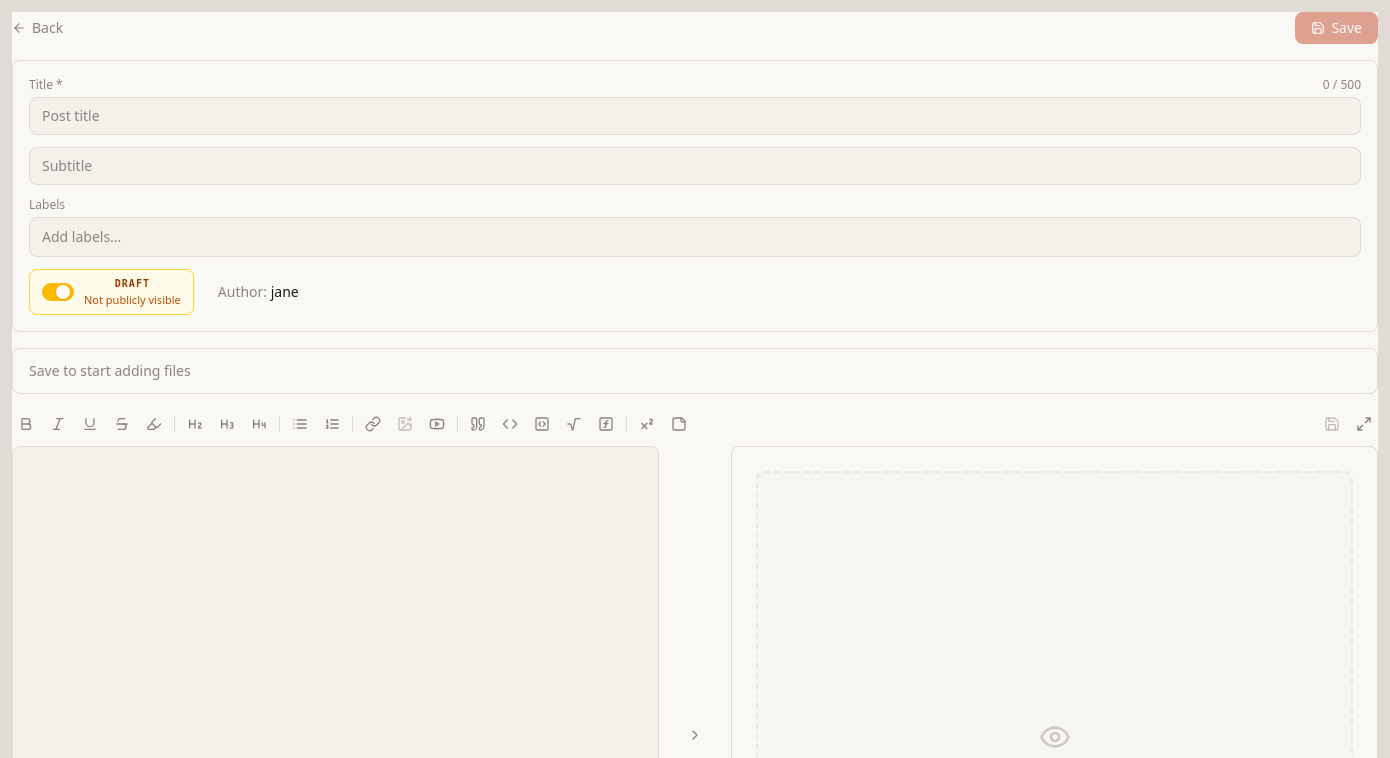
Test: EditorPage › shows 422 validation error with string detail
The width and height of the screenshot is (1390, 758).
Type "Test" into the field labelled "Title *" at {"x": 695, "y": 116}, box [29,97,1361,135]
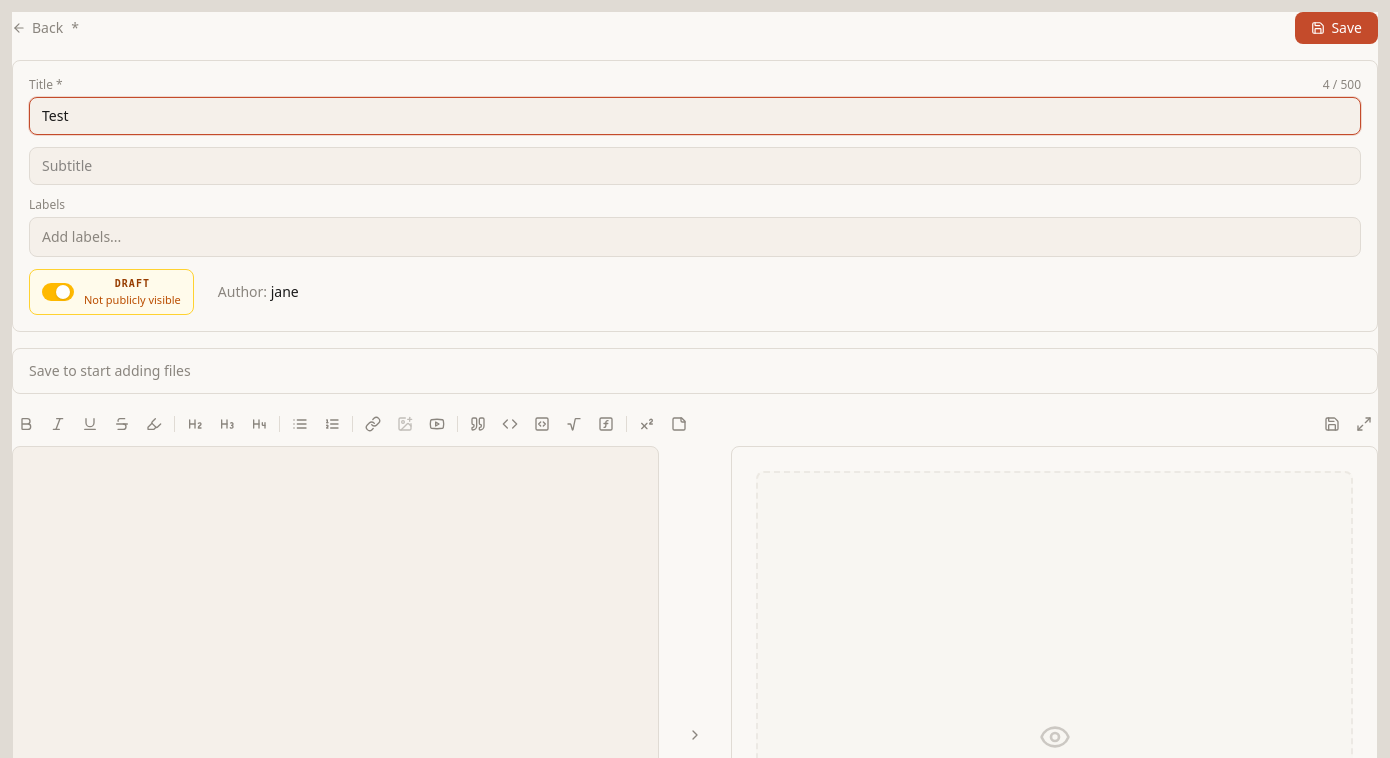
Click the button with aria-label "Save post" at {"x": 1337, "y": 28}, box [1295,12,1378,44]
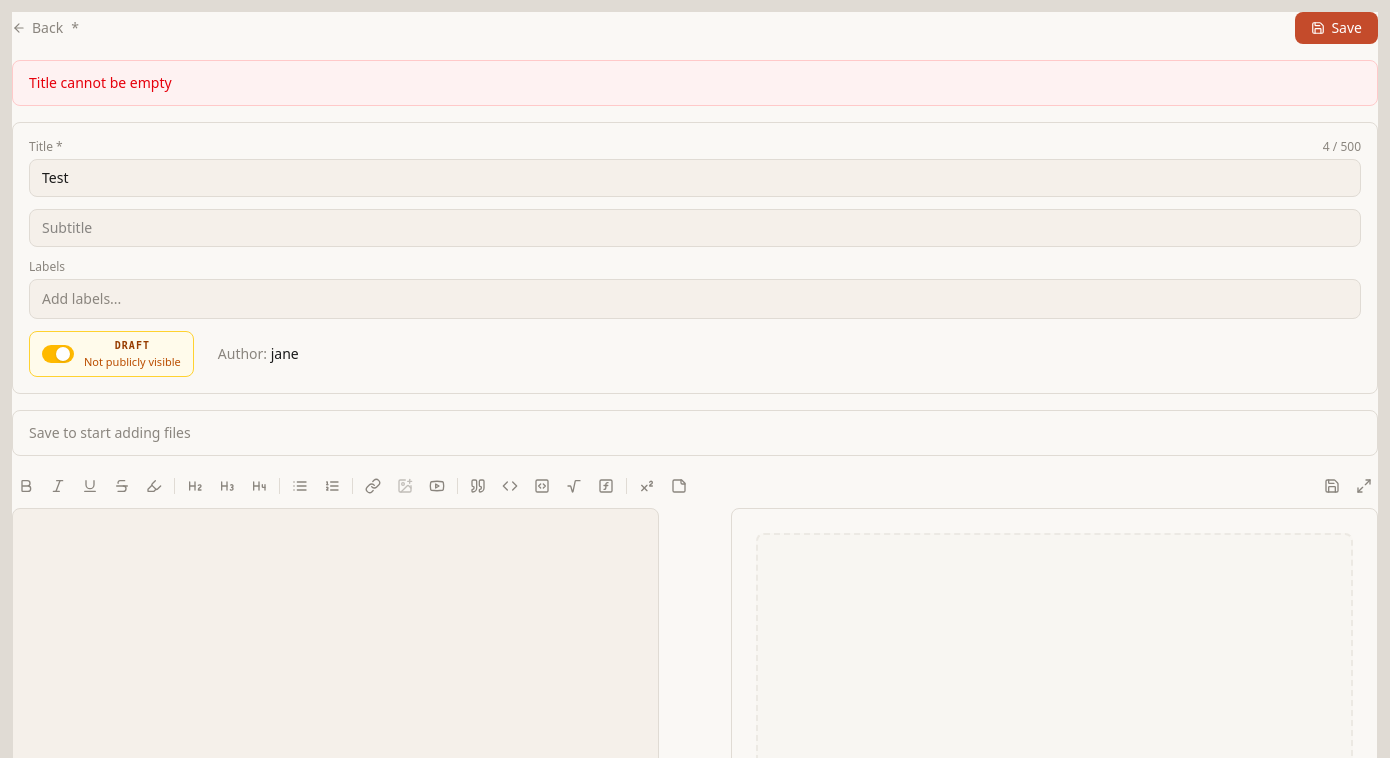
Expected: the text "Title cannot be empty" is shown, [12,60,1378,106]
